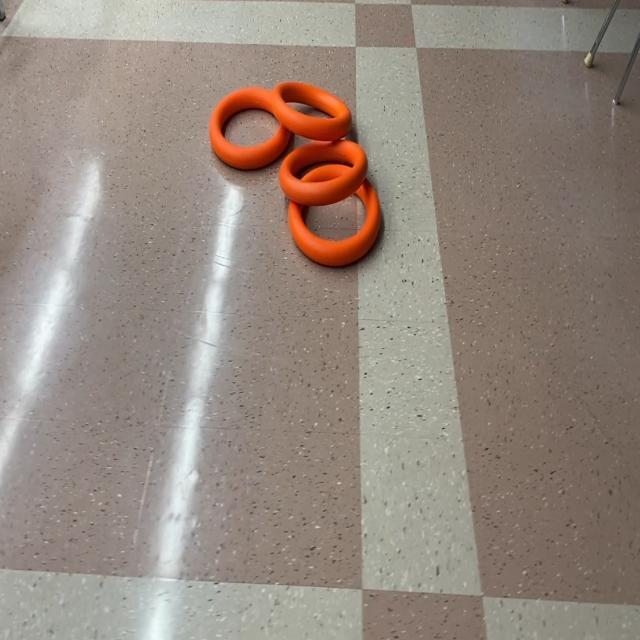note: (286, 163, 382, 271), (207, 83, 292, 169), (279, 139, 370, 209), (272, 81, 352, 144)
